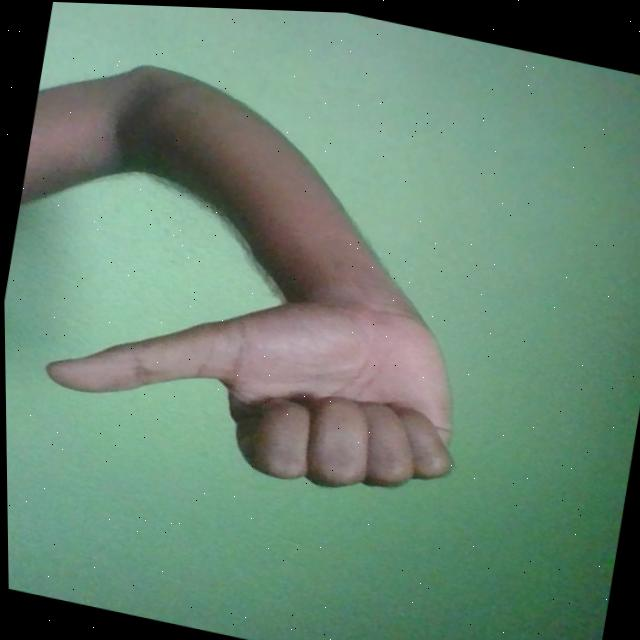Dislike: (32, 231, 481, 510)
